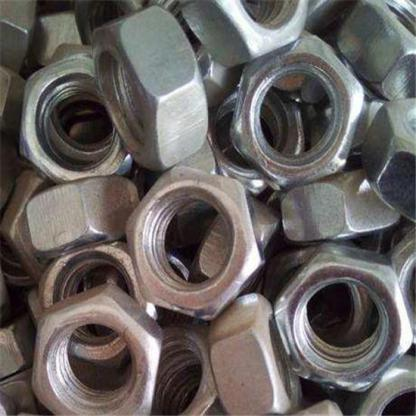FOD: (226, 26, 367, 190), (124, 160, 264, 325), (270, 244, 415, 398), (34, 279, 160, 415)
